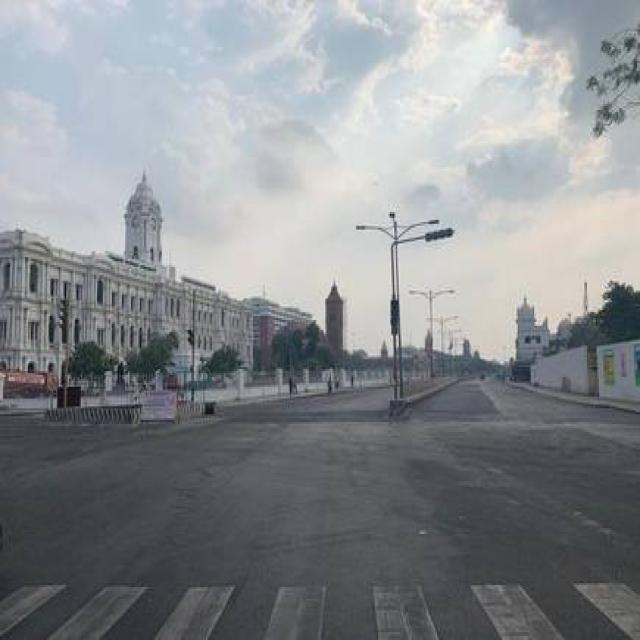Clean road: (0, 361, 640, 640)
